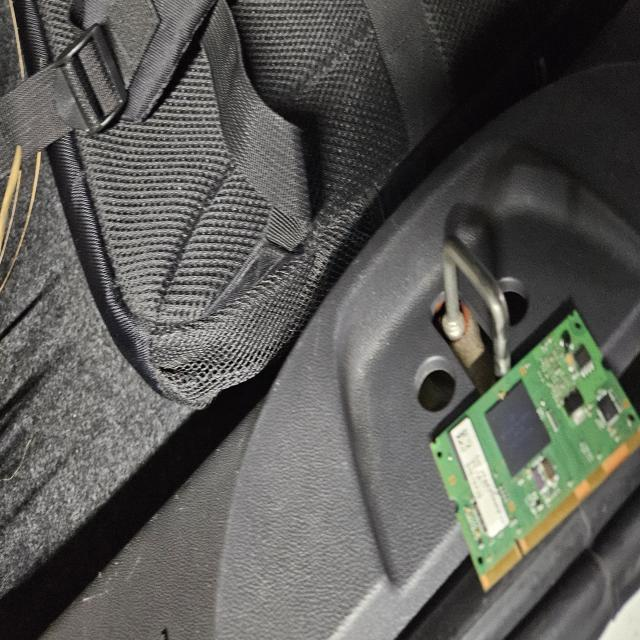som: (430, 296, 640, 602)
